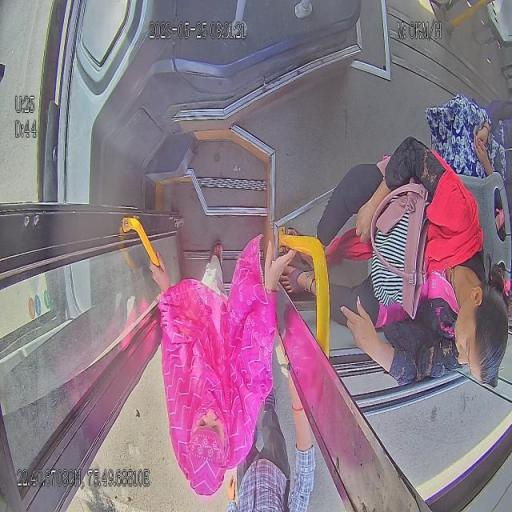persona: (277, 136, 509, 390), (148, 233, 296, 498), (222, 365, 316, 512), (425, 93, 511, 236)
